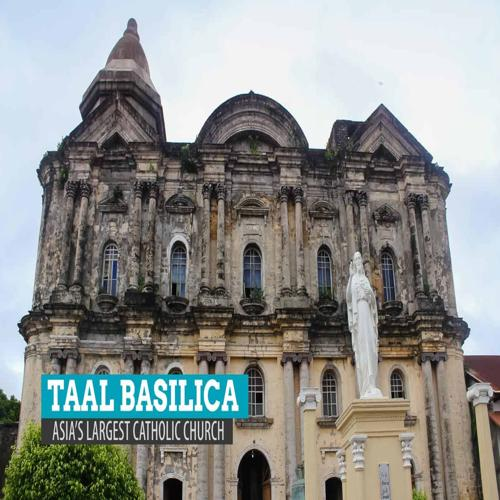Taal Basilica Church: (14, 6, 480, 500)
